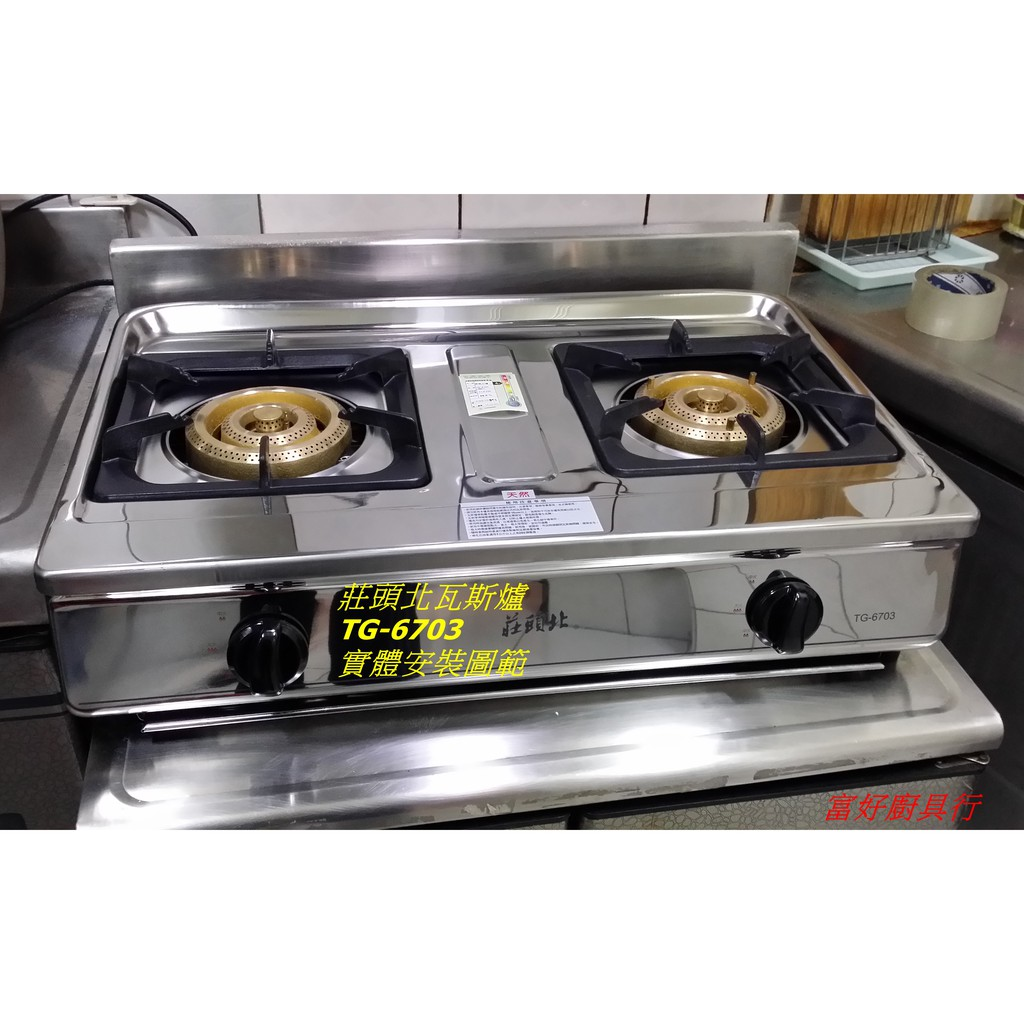gasoven: (39, 222, 984, 729)
